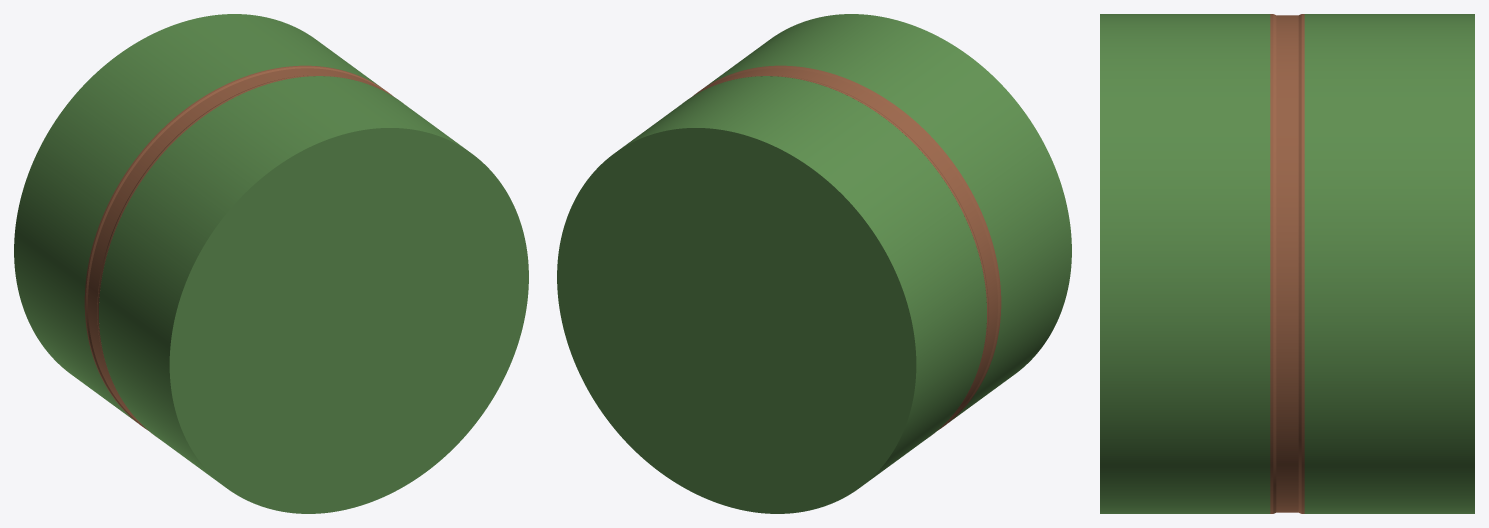
The model's file is planetMap.glb.
The picture shows the model from 3 angles, left to right: view 1: azimuth 30°, elevation 25°; view 2: azimuth 150°, elevation 25°; view 3: azimuth 270°, elevation 25°; orthographic projection. The views are drawn at different scales.
Visible parts, largest first — view 1: Cylinder.003, Cylinder.001; view 2: Cylinder.003, Cylinder.001; view 3: Cylinder.003, Cylinder.001.
Part boxes in pixels (bbox=[...]): Cylinder.003: bbox=[14, 14, 528, 513]; Cylinder.001: bbox=[84, 65, 393, 433]; Cylinder.003: bbox=[557, 14, 1071, 513]; Cylinder.001: bbox=[692, 65, 1001, 433]; Cylinder.003: bbox=[1100, 14, 1474, 513]; Cylinder.001: bbox=[1270, 14, 1304, 513].
Bounding box in the file's own units: 100 × 100 × 75.
